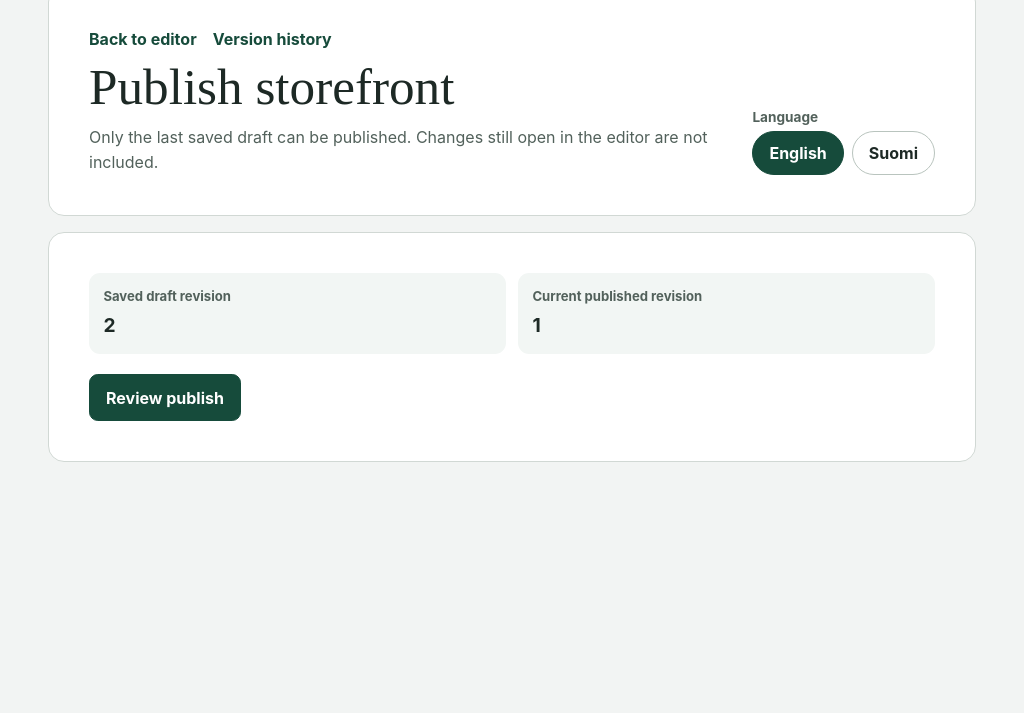
P2-12 publish confirmation route › does not publish and links back to the editor when confirmation is cancelled
Click the button "Review publish" at coordinates (165, 398), box [89,374,241,421]
(page scrolled)
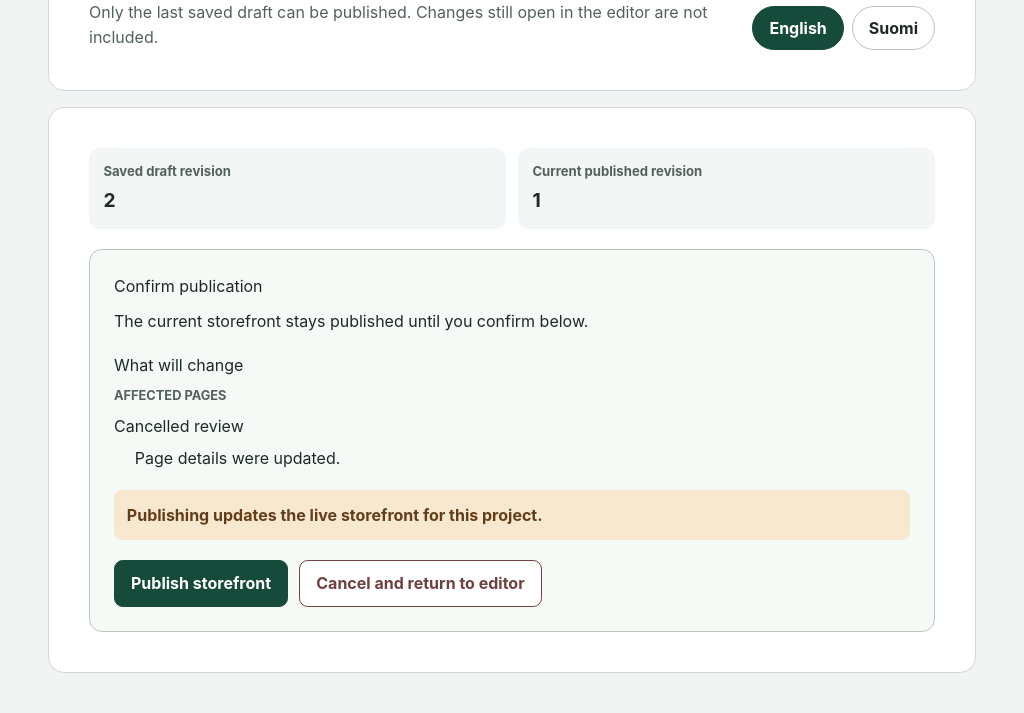
Expected: the heading "Confirm publication" is shown, [114,276,263,296]
